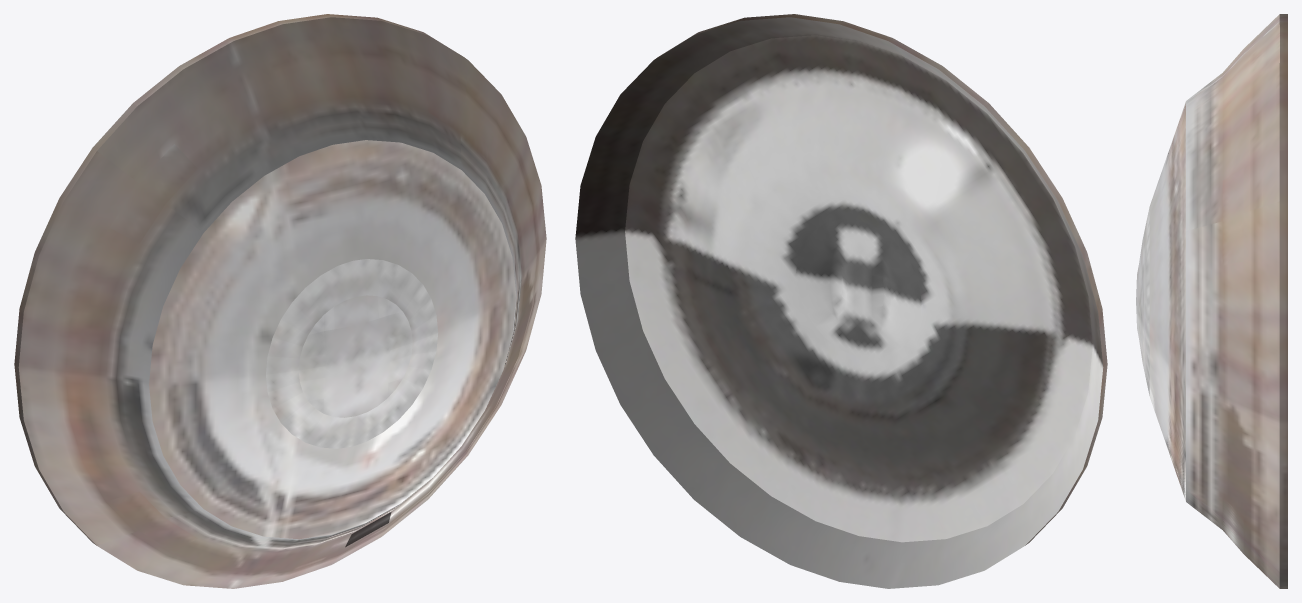
The model's file is BackedEyeFluid.obj.
3 renders of one model, left to right at view 1: azimuth 30°, elevation 25°; view 2: azimuth 150°, elevation 25°; view 3: azimuth 270°, elevation 25°, orthographic. The views are drawn at different scales.
Parts seen in each view (by area): view 1: pasted__eye_section_eye_fluid_Whole group; view 2: pasted__eye_section_eye_fluid_Whole group; view 3: pasted__eye_section_eye_fluid_Whole group.
Part boxes in pixels (x1,y1,x2,y2): pasted__eye_section_eye_fluid_Whole group: (14, 14, 546, 588); pasted__eye_section_eye_fluid_Whole group: (575, 14, 1107, 588); pasted__eye_section_eye_fluid_Whole group: (1136, 14, 1287, 588).
Bounding box in the file's own units: 1.28 × 1.29 × 0.3393.
1 material, 1 textured.
